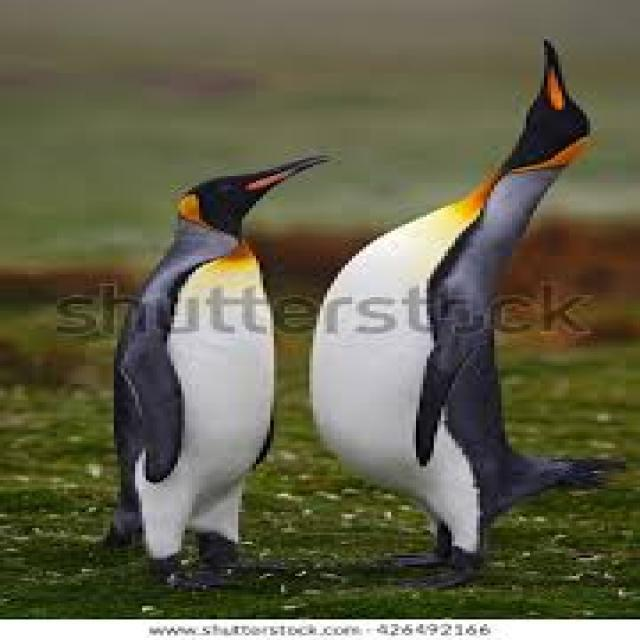Penguin: (318, 39, 595, 592), (105, 154, 293, 588)
